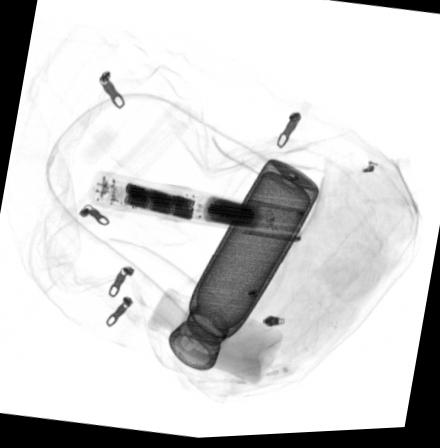Baton: (87, 168, 306, 245)
